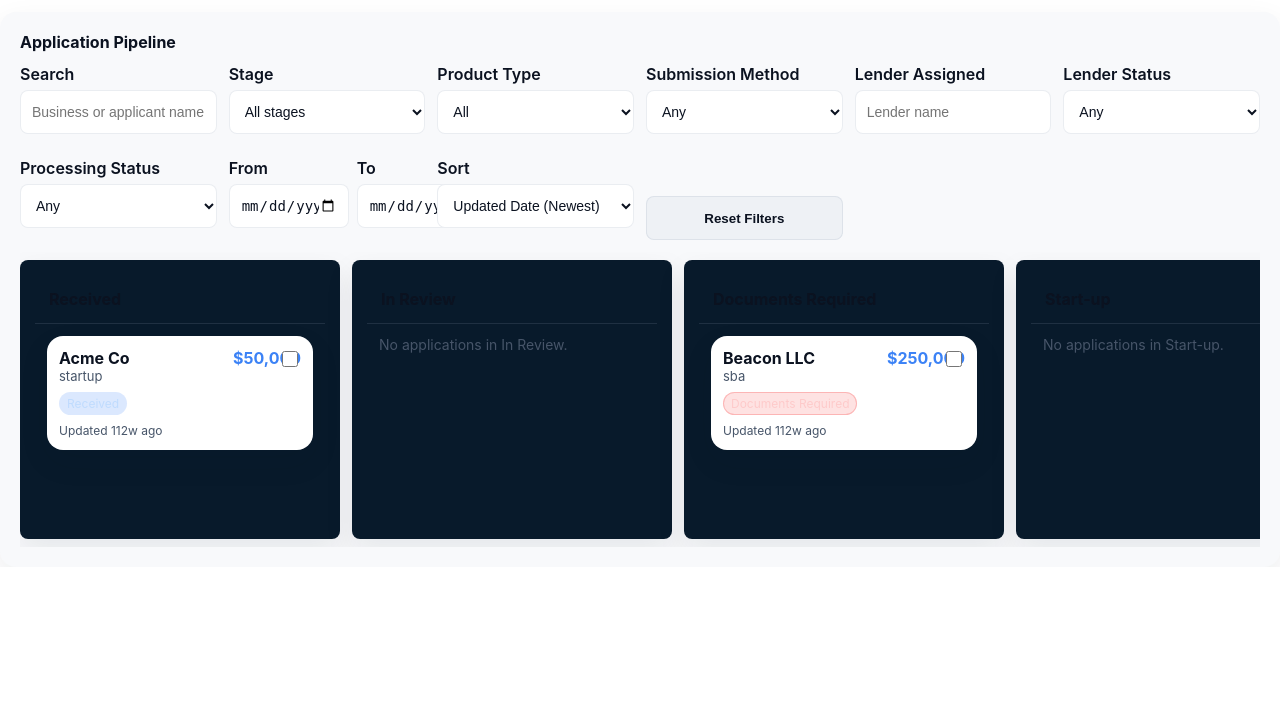
Test: Pipeline board › opens the application shell when clicking a card
Click the text "Acme Co".
click(94, 358)  # box [59,348,130,368]
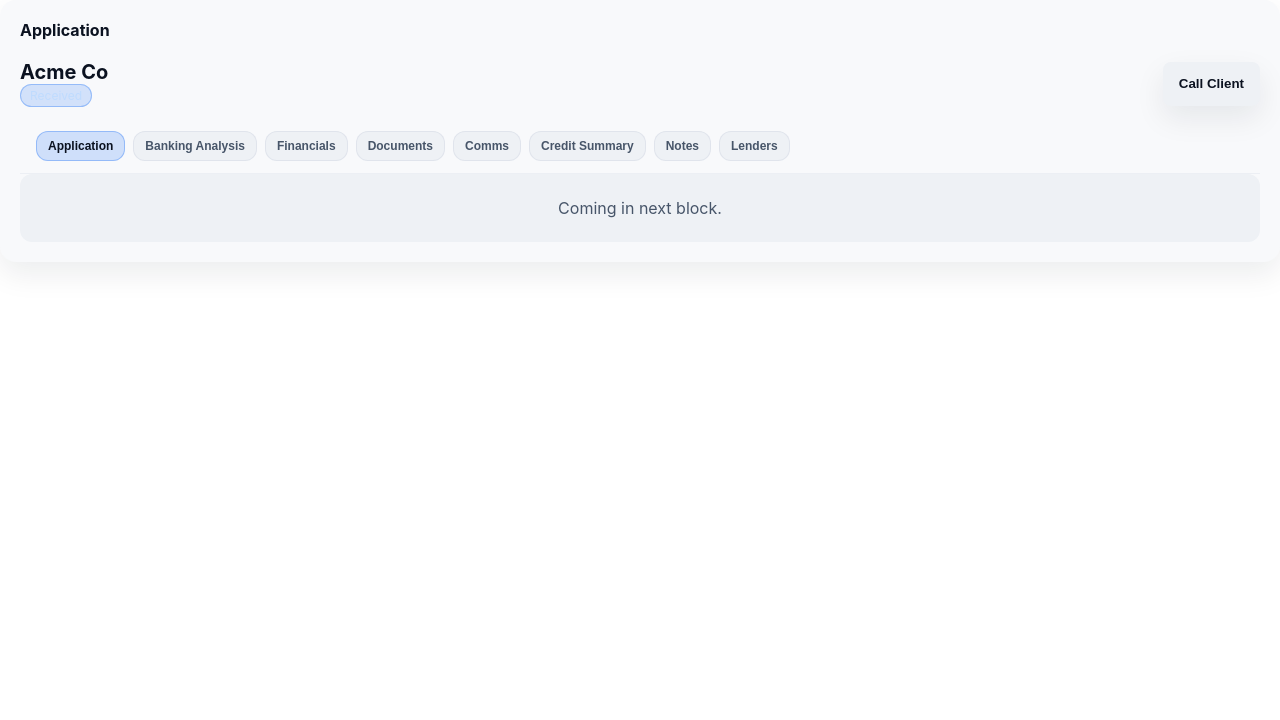
Expected: the text "Acme Co" is shown, [20,60,108,84]
Expected: the text "Coming in next block." is shown, [20,174,1260,242]
